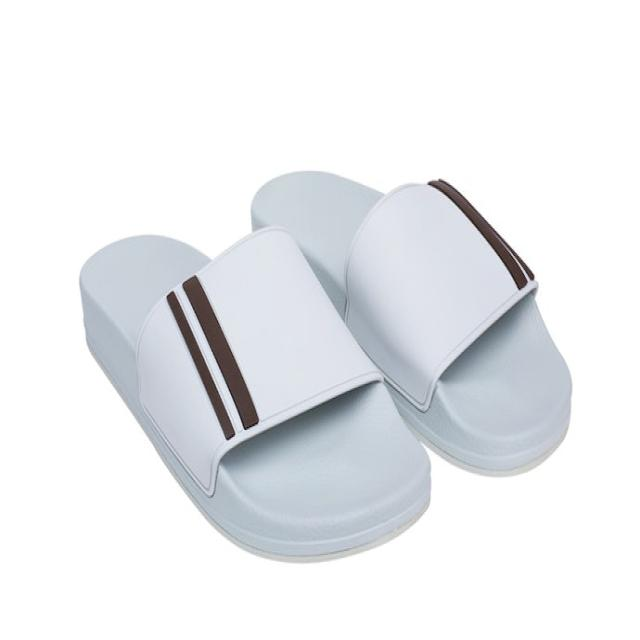Sandals: (72, 126, 582, 578)
